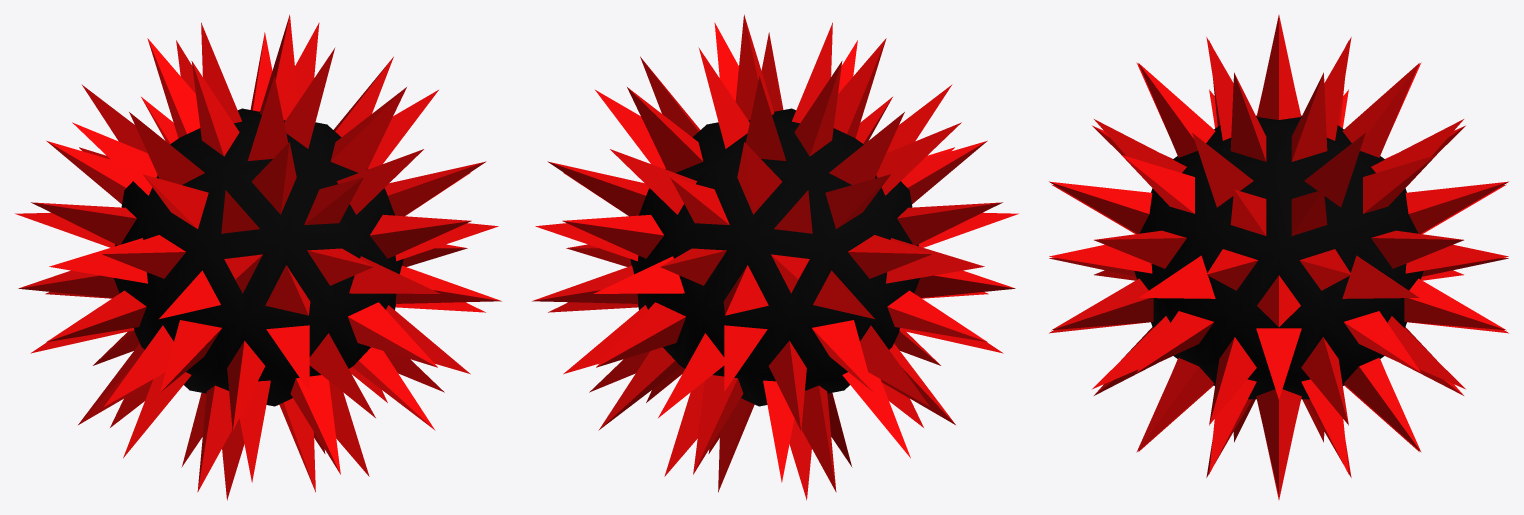
Rendered from SpikeBall.fbx.
3 views of the same model, side by side, from view 1: azimuth 30°, elevation 25°; view 2: azimuth 150°, elevation 25°; view 3: azimuth 270°, elevation 25° (orthographic).
Visible parts, largest first — view 1: SpikeBall; view 2: SpikeBall; view 3: SpikeBall.
Boxes of the visible parts, x1,y1,x2,y2 form: SpikeBall: [15, 14, 501, 500]; SpikeBall: [532, 14, 1018, 500]; SpikeBall: [1049, 15, 1508, 499].
Size of the model in its own units: 325 by 313 by 310.
